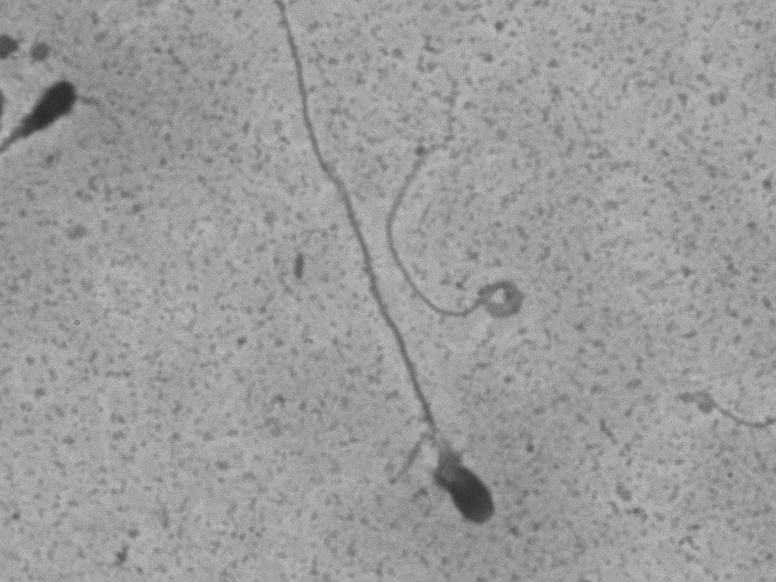Abnormal: (268, 7, 506, 541)
